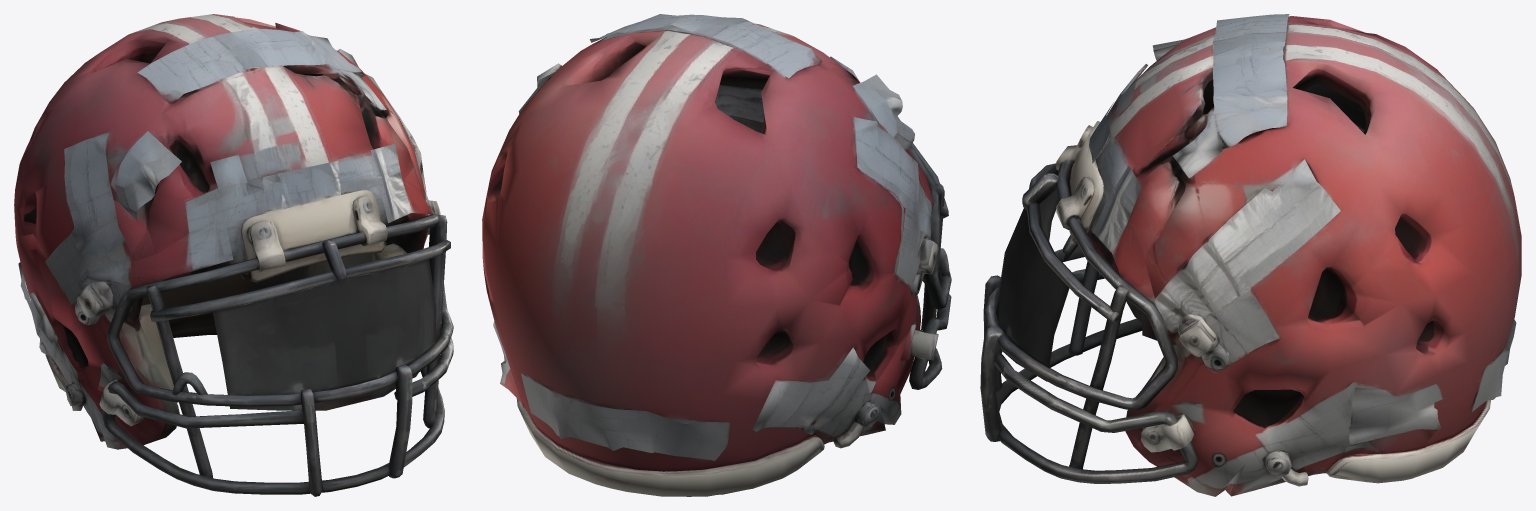
File: tripo_convert_7c111707-8506-4e1a-9125-0bccad88106b.fbx
The picture shows the model from 3 angles, left to right: view 1: azimuth 30°, elevation 25°; view 2: azimuth 150°, elevation 25°; view 3: azimuth 270°, elevation 25°; orthographic projection. The views are drawn at different scales.
Visible parts, largest first — view 1: tripo_node_7c111707; view 2: tripo_node_7c111707; view 3: tripo_node_7c111707.
Boxes of the visible parts, x1=… form: tripo_node_7c111707: x1=14, y1=14, x2=453, y2=496; tripo_node_7c111707: x1=482, y1=14, x2=951, y2=496; tripo_node_7c111707: x1=980, y1=14, x2=1521, y2=496.
Size of the model in its own units: 0.8159 by 0.7983 by 0.9868.
Materials: 1 (1 with a texture image).
